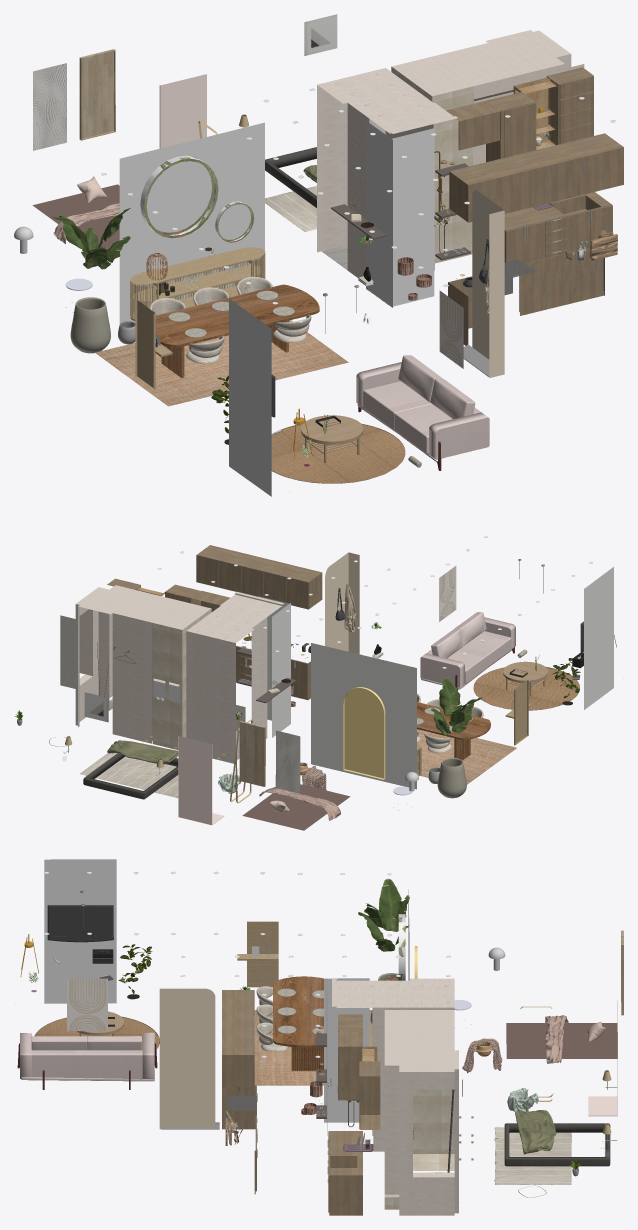
File: burgos-floor-1-2.glb
3 views of the same model, one above another, from view 1: azimuth 30°, elevation 25°; view 2: azimuth 150°, elevation 25°; view 3: azimuth 270°, elevation 25° (orthographic). The views are drawn at different scales.
Visible parts, largest first — view 1: 3DGeom-3992, 3DGeom-3998, 3DGeom-3983, 3DGeom-6114, 3DGeom-4347, 3DGeom-6100, 3DGeom-4040, 3DGeom-4001, 3DGeom-12023, 3DGeom-3995, 3DGeom-6395, 3DGeom-10558 (+16 smaller); view 2: 3DGeom-3983, 3DGeom-3992, 3DGeom-3998, 3DGeom-6114, 3DGeom-3995, 3DGeom-93.003, 3DGeom-10558, 3DGeom-4001, 3DGeom-4040, 3DGeom-6630, 3DGeom-6100, 3DGeom-431.003 (+16 smaller); view 3: 3DGeom-3983, 3DGeom-3998, 3DGeom-3992, 3DGeom-4001, 3DGeom-6114, 3DGeom-12023, 3DGeom-3995, 3DGeom-6630, 3DGeom-431.003, 3DGeom-4727, 3DGeom-4802, 3DGeom-6100 (+13 smaller).
Boxes of the visible parts, x1=… form: 3DGeom-3992: x1=119, y1=121, x2=434, y2=496; 3DGeom-3998: x1=446, y1=67, x2=623, y2=345; 3DGeom-3983: x1=317, y1=30, x2=584, y2=277; 3DGeom-6114: x1=356, y1=355, x2=489, y2=459; 3DGeom-4347: x1=130, y1=247, x2=265, y2=389; 3DGeom-6100: x1=95, y1=320, x2=348, y2=406; 3DGeom-4040: x1=271, y1=423, x2=405, y2=483; 3DGeom-4001: x1=472, y1=190, x2=504, y2=377; 3DGeom-12023: x1=155, y1=284, x2=319, y2=377; 3DGeom-3995: x1=391, y1=66, x2=473, y2=263; 3DGeom-6395: x1=79, y1=49, x2=115, y2=140; 3DGeom-10558: x1=159, y1=74, x2=206, y2=148; 3DGeom-3983: x1=76, y1=585, x2=283, y2=763; 3DGeom-3992: x1=153, y1=567, x2=613, y2=789; 3DGeom-3998: x1=107, y1=545, x2=322, y2=699; 3DGeom-6114: x1=420, y1=612, x2=515, y2=689; 3DGeom-3995: x1=109, y1=609, x2=211, y2=749; 3DGeom-93.003: x1=343, y1=687, x2=385, y2=779; 3DGeom-10558: x1=178, y1=736, x2=224, y2=825; 3DGeom-4001: x1=325, y1=552, x2=359, y2=654; 3DGeom-4040: x1=473, y1=667, x2=579, y2=710; 3DGeom-6630: x1=242, y1=784, x2=350, y2=830; 3DGeom-6100: x1=417, y1=729, x2=516, y2=784; 3DGeom-431.003: x1=80, y1=753, x2=178, y2=797; 3DGeom-3983: x1=332, y1=978, x2=458, y2=1215; 3DGeom-3998: x1=222, y1=990, x2=380, y2=1215; 3DGeom-3992: x1=44, y1=859, x2=409, y2=1135; 3DGeom-4001: x1=159, y1=988, x2=215, y2=1129; 3DGeom-6114: x1=20, y1=1032, x2=154, y2=1081; 3DGeom-12023: x1=273, y1=976, x2=323, y2=1071; 3DGeom-3995: x1=384, y1=1089, x2=454, y2=1209; 3DGeom-6630: x1=506, y1=1023, x2=617, y2=1058; 3DGeom-431.003: x1=494, y1=1127, x2=571, y2=1184; 3DGeom-4727: x1=47, y1=905, x2=239, y2=1090; 3DGeom-4802: x1=67, y1=978, x2=107, y2=1031; 3DGeom-6100: x1=254, y1=1010, x2=372, y2=1085.
Bounding box in the file's own units: 9.13 × 2.8 × 10.3.
134 materials, 87 textured.
